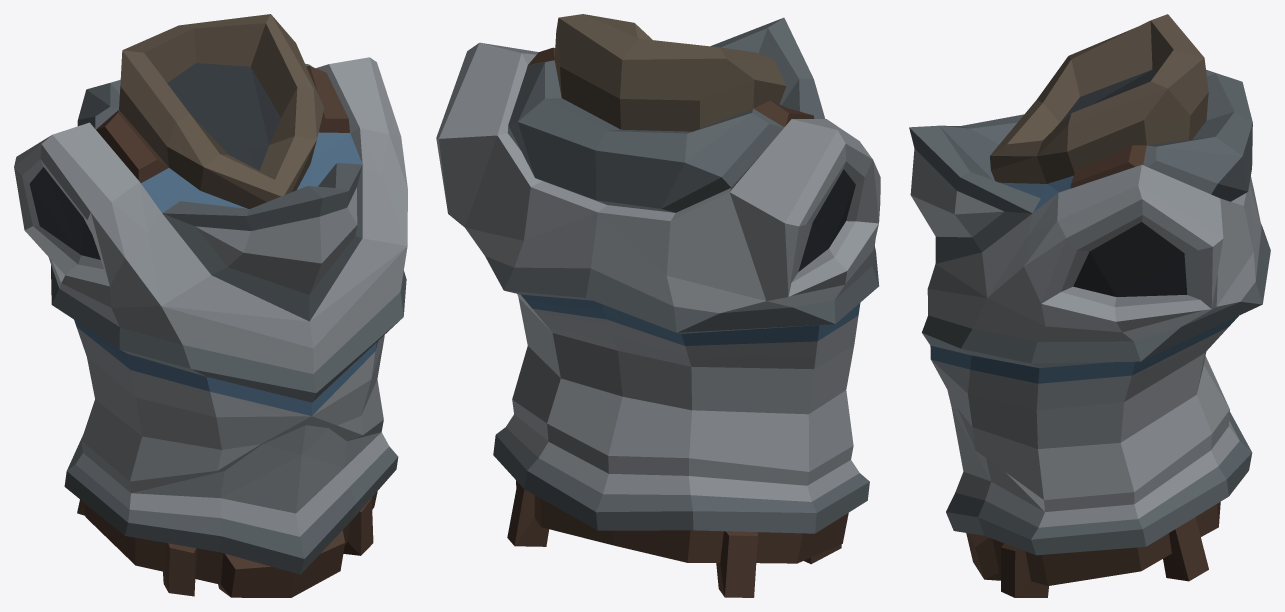
Rendered from Chr_Torso_Male_25_Static.fbx.
3 views of the same model, side by side, from view 1: azimuth 30°, elevation 25°; view 2: azimuth 150°, elevation 25°; view 3: azimuth 270°, elevation 25° (orthographic). The views are drawn at different scales.
Parts seen in each view (by area): view 1: Chr_Torso_Male_25_Static; view 2: Chr_Torso_Male_25_Static; view 3: Chr_Torso_Male_25_Static.
Boxes of the visible parts, x1,y1,x2,y2 form: Chr_Torso_Male_25_Static: (14,14,407,597); Chr_Torso_Male_25_Static: (436,14,880,597); Chr_Torso_Male_25_Static: (909,14,1270,597).
Bounding box in the file's own units: 0.502 × 0.7097 × 0.4542.
